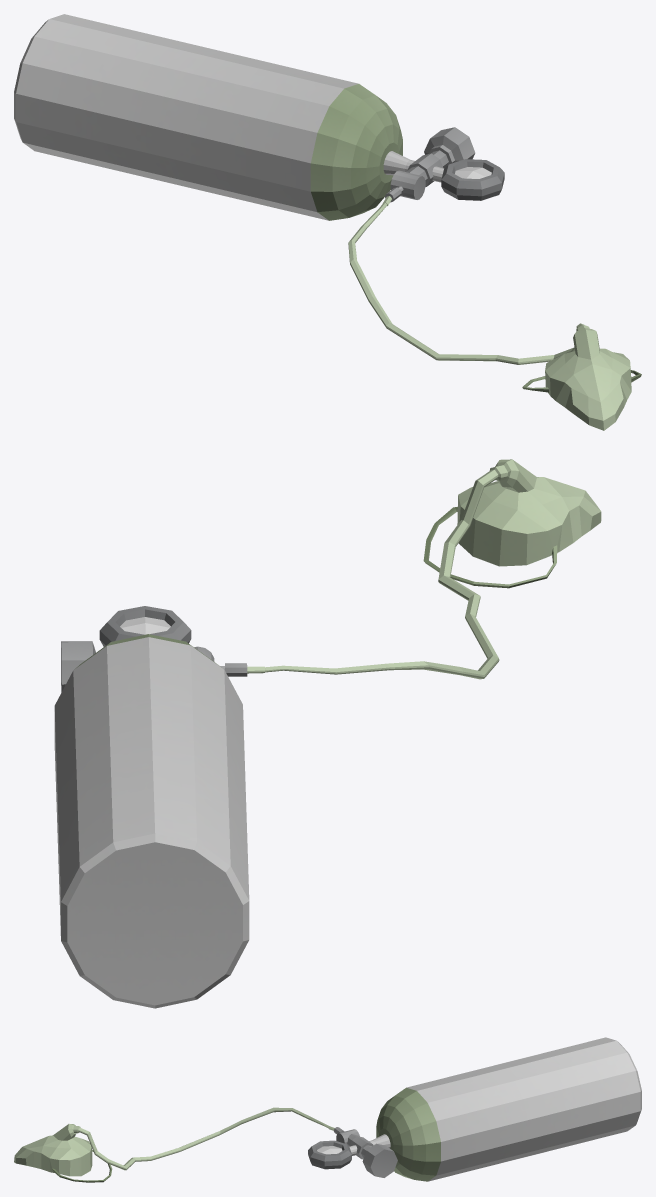
Rendered from breathing_aparatus.glb.
3 renders of one model, top to bottom at view 1: azimuth 30°, elevation 25°; view 2: azimuth 150°, elevation 25°; view 3: azimuth 270°, elevation 25°, orthographic. The views are drawn at different scales.
Visible parts, largest first — view 1: o2_bomb, breathing_mask; view 2: o2_bomb, breathing_mask; view 3: o2_bomb, breathing_mask.
Boxes of the visible parts, x1,y1,x2,y2 form: o2_bomb: [14, 14, 504, 220]; breathing_mask: [348, 196, 641, 430]; o2_bomb: [54, 606, 249, 1008]; breathing_mask: [247, 459, 601, 679]; o2_bomb: [308, 1037, 641, 1181]; breathing_mask: [14, 1107, 334, 1182].
Size of the model in its own units: 0.2595 by 0.1058 by 0.688.
1 material, 1 textured.
